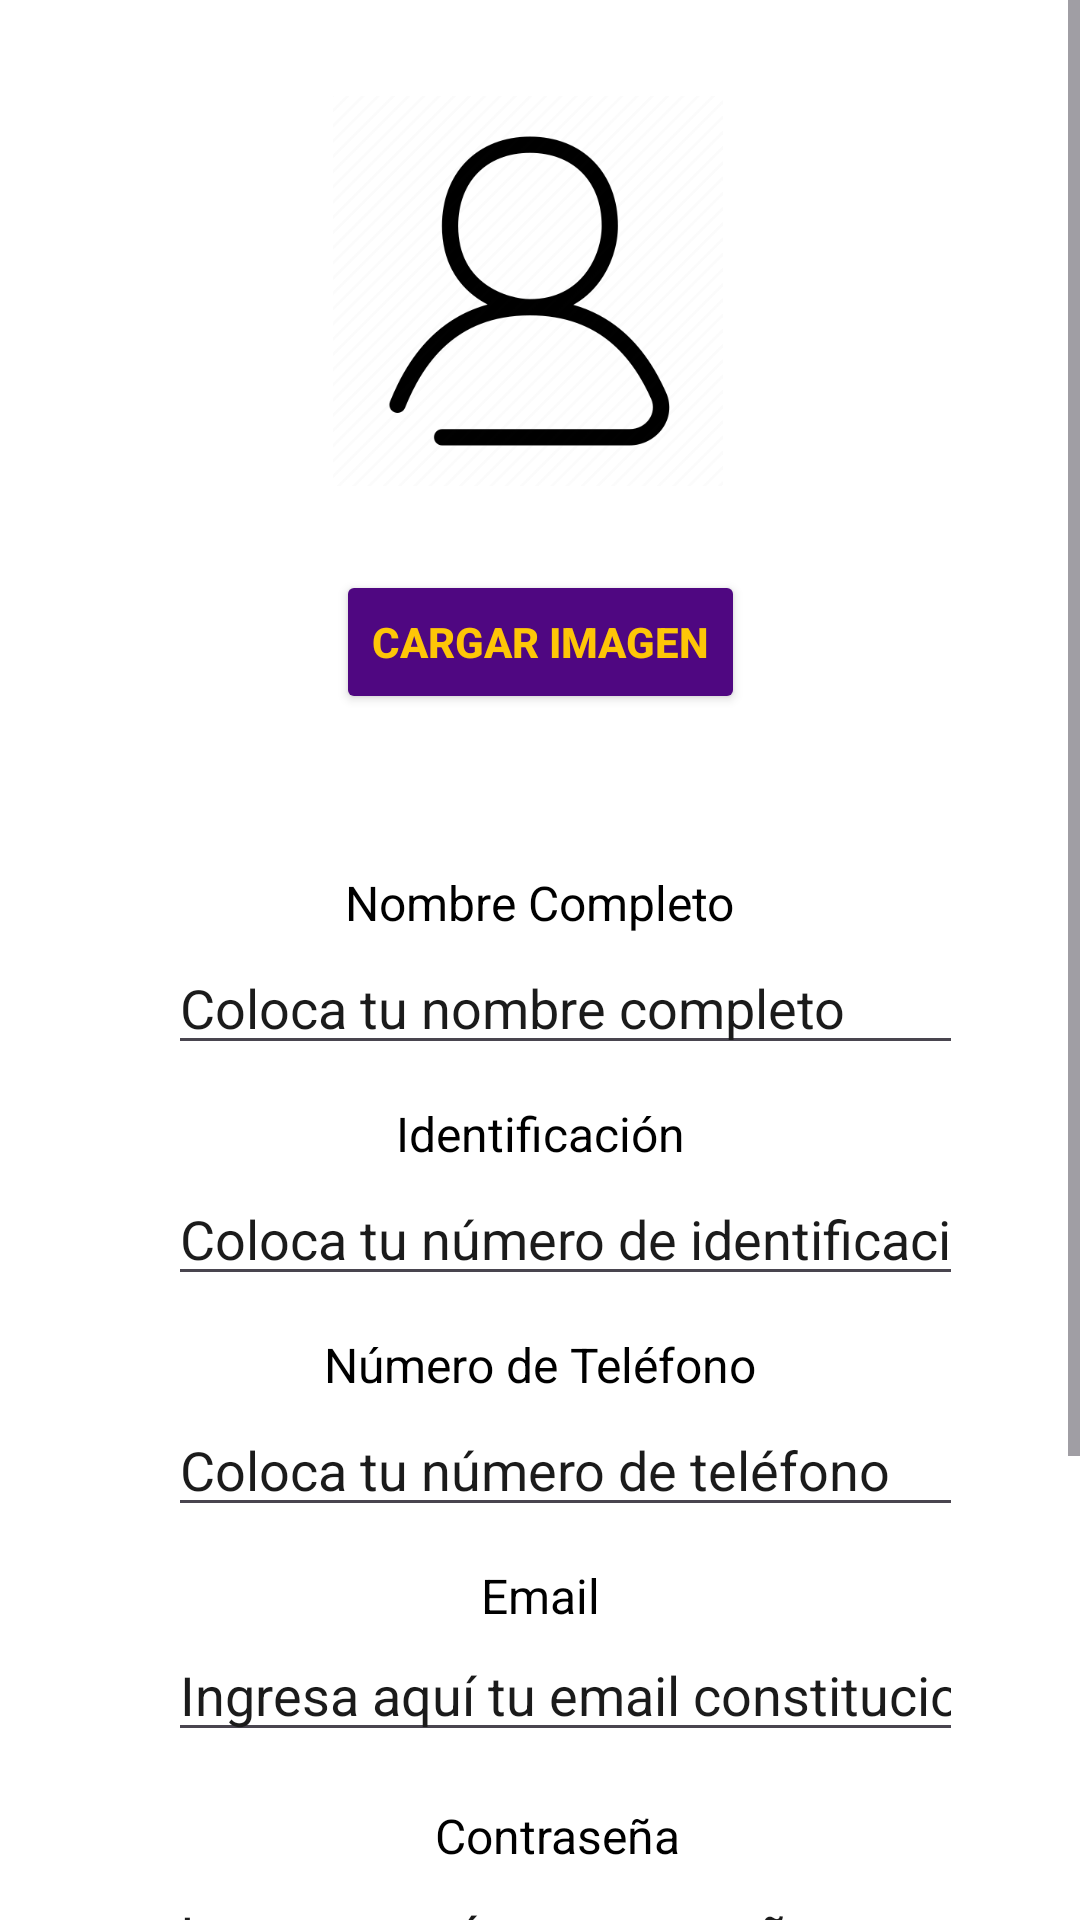

Icon bounding boxes for this 1080w x 1920h phone screenshot, format (x1, y1, x2, y2):
profile: (389, 136, 670, 446)
